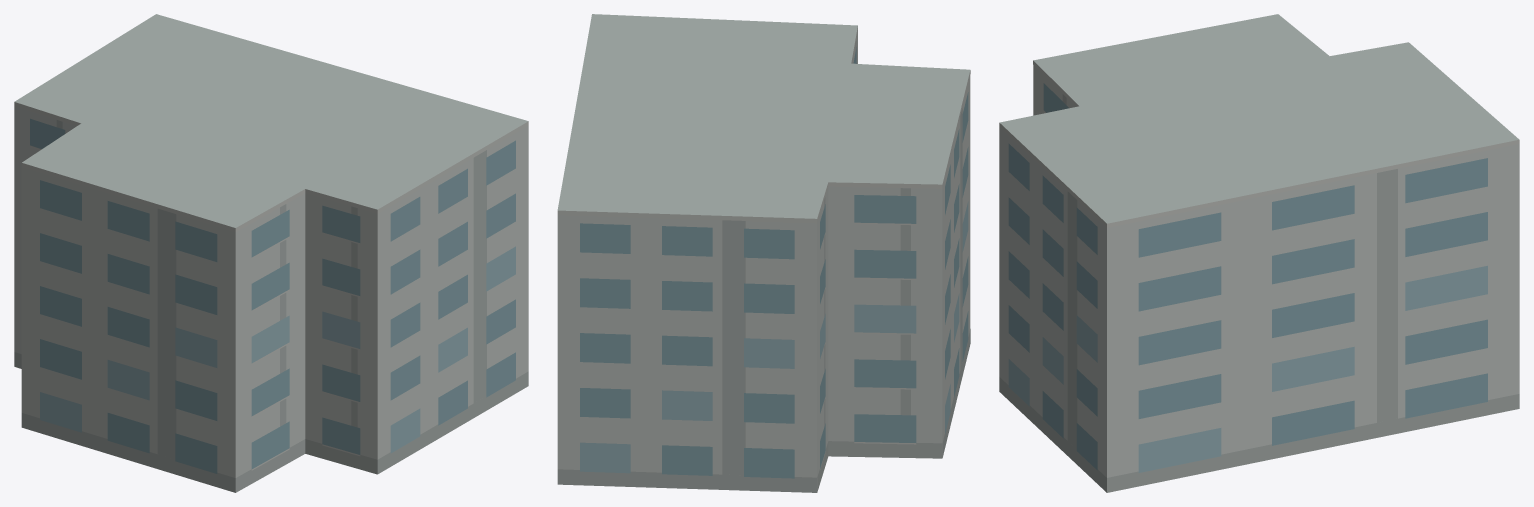
File: survey-upis-32699489.glb
3 renders of one model, left to right at view 1: azimuth 30°, elevation 25°; view 2: azimuth 150°, elevation 25°; view 3: azimuth 270°, elevation 25°, orthographic. The views are drawn at different scales.
Parts seen in each view (by area): view 1: survey-upis-32699489.tmp; view 2: survey-upis-32699489.tmp; view 3: survey-upis-32699489.tmp.
Part boxes in pixels (x1,y1,x2,y2): survey-upis-32699489.tmp: (14, 14, 528, 492); survey-upis-32699489.tmp: (557, 14, 970, 492); survey-upis-32699489.tmp: (999, 14, 1519, 492).
Bounding box in the file's own units: 25.49 × 15.25 × 26.71.
